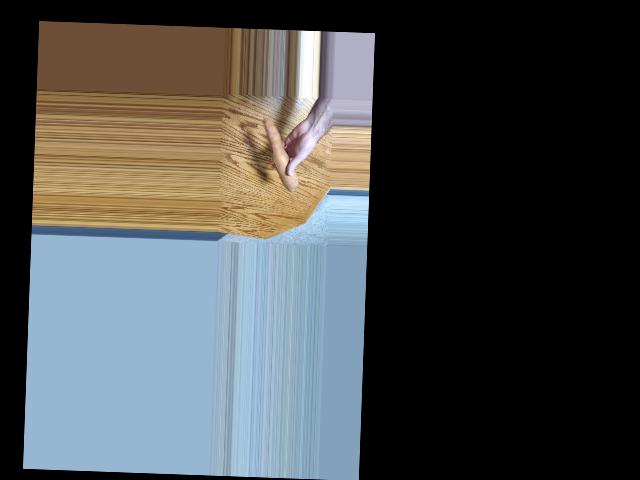sweet_potato: (265, 117, 292, 194)
